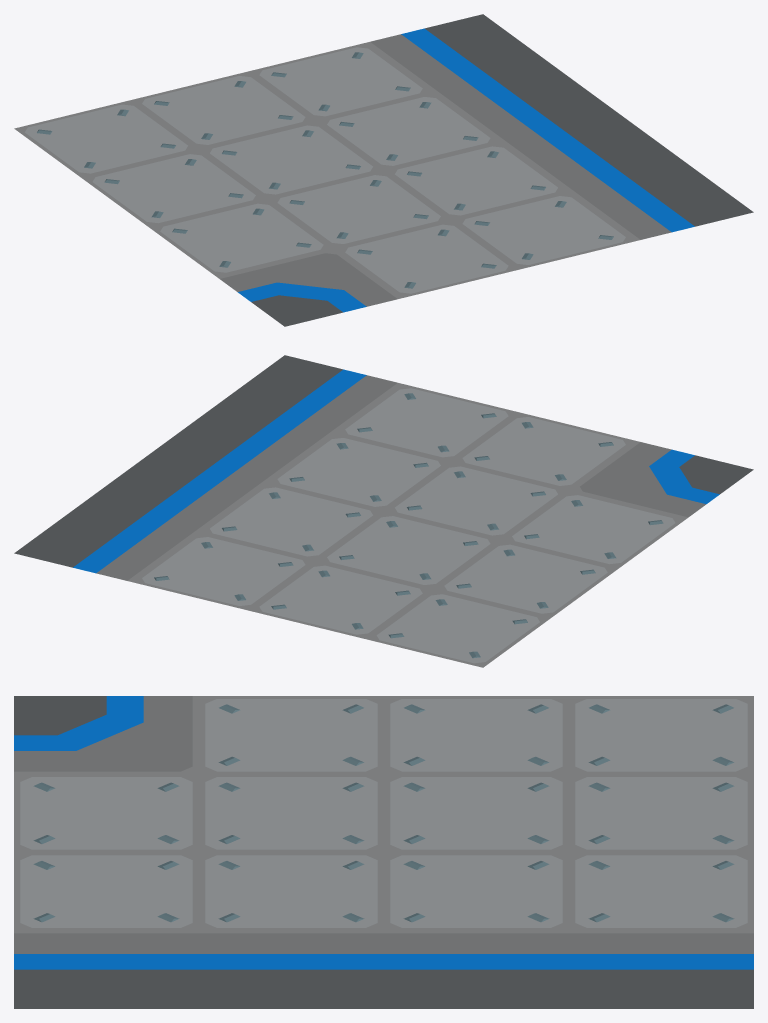
File: Floor_type_B_013.glb
The picture shows the model from 3 angles, top to bottom: view 1: azimuth 30°, elevation 25°; view 2: azimuth 150°, elevation 25°; view 3: azimuth 270°, elevation 25°; orthographic projection. The views are drawn at different scales.
Parts seen in each view (by area): view 1: Floor_type_B_013; view 2: Floor_type_B_013; view 3: Floor_type_B_013.
Part boxes in pixels (x1,y1,x2,y2): Floor_type_B_013: (14, 14, 753, 326); Floor_type_B_013: (14, 355, 753, 667); Floor_type_B_013: (14, 696, 753, 1008).
Size of the model in its own units: 4 by 0.008 by 4.
Materials: 2 (2 with a texture image).
